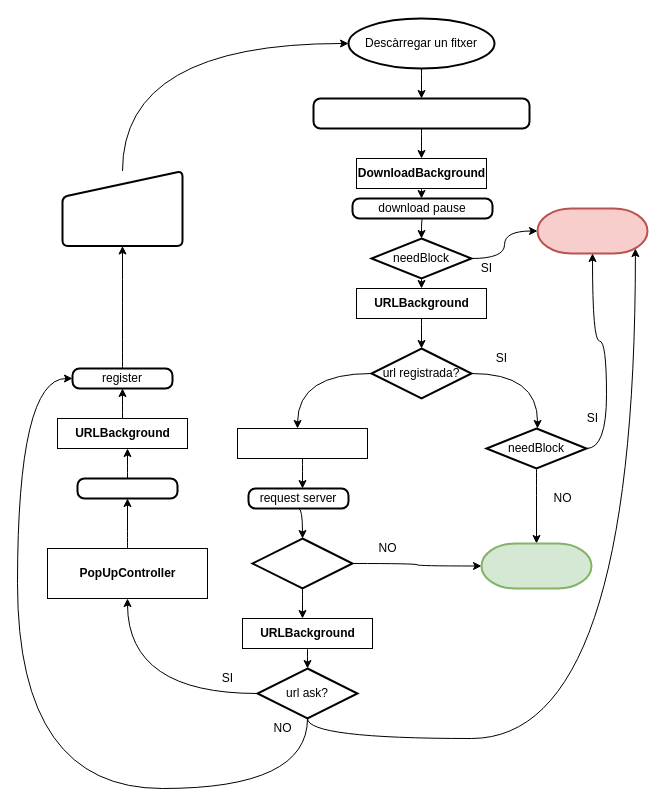
The diagram is 666 pixels wide and 806 high, and some of its shapes have lost their labels. The centre of each missing label's shape, as x and y in pixels:
"Cancela" goes at (592,230).
"connection?" goes at (302,563).
"onDownloadCreated listener" goes at (421,113).
"Reanuda" goes at (536,565).
"RemoteBackground" goes at (302,443).
"show_ask" goes at (127,488).
"USUARI INICIA LA DESCÀRREGA" goes at (122,208).
